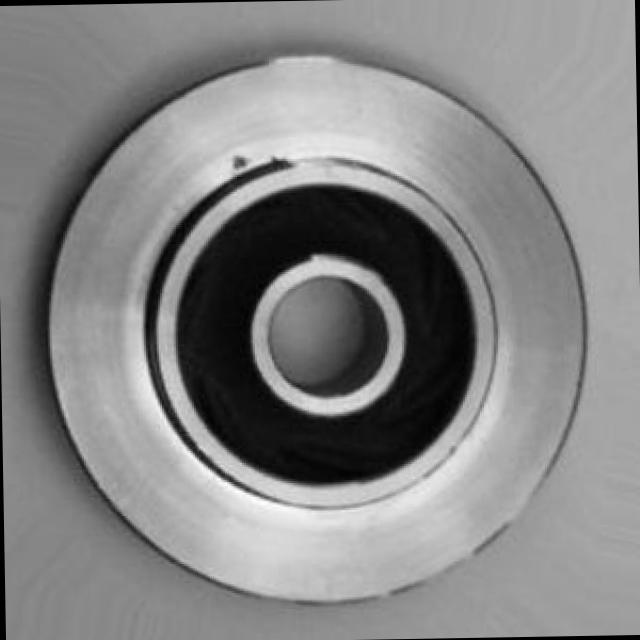Defect: (216, 143, 257, 178), (274, 142, 304, 176)
